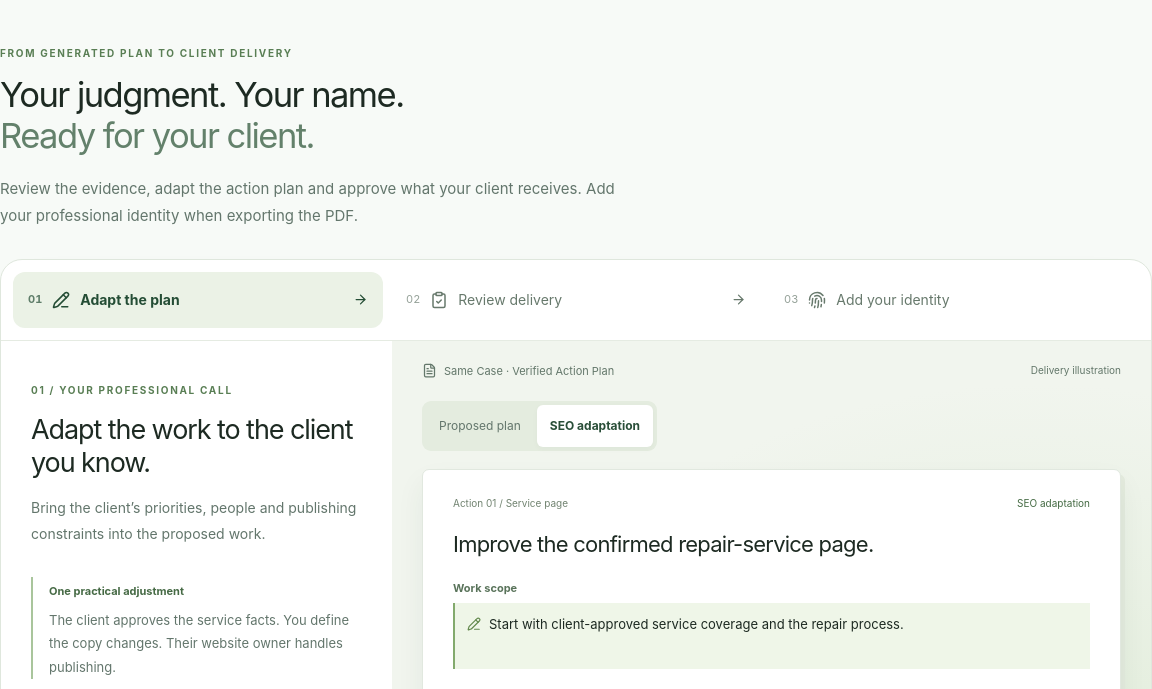
Scenario: client delivery showcase › shows a non-editable adaptation with before/after comparison and unchanged evidence
Check: the text "Start with client-approved" is shown, box 489,616 -> 904,632
Click the button "Proposed plan".
click(480, 426)  # box 426,405 -> 534,447
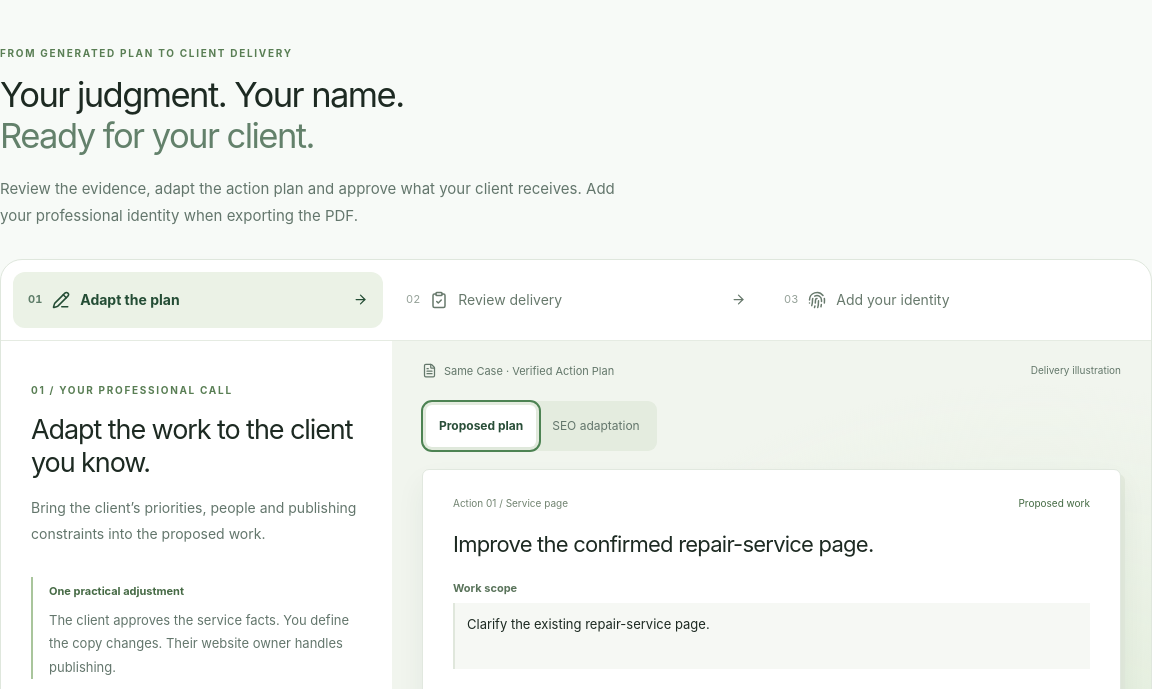
Check: the text "Clarify the existing repair-service page." is shown, box 453,603 -> 1090,669
Click the button "SEO adaptation".
click(596, 426)  # box 539,405 -> 653,447
(page scrolled)
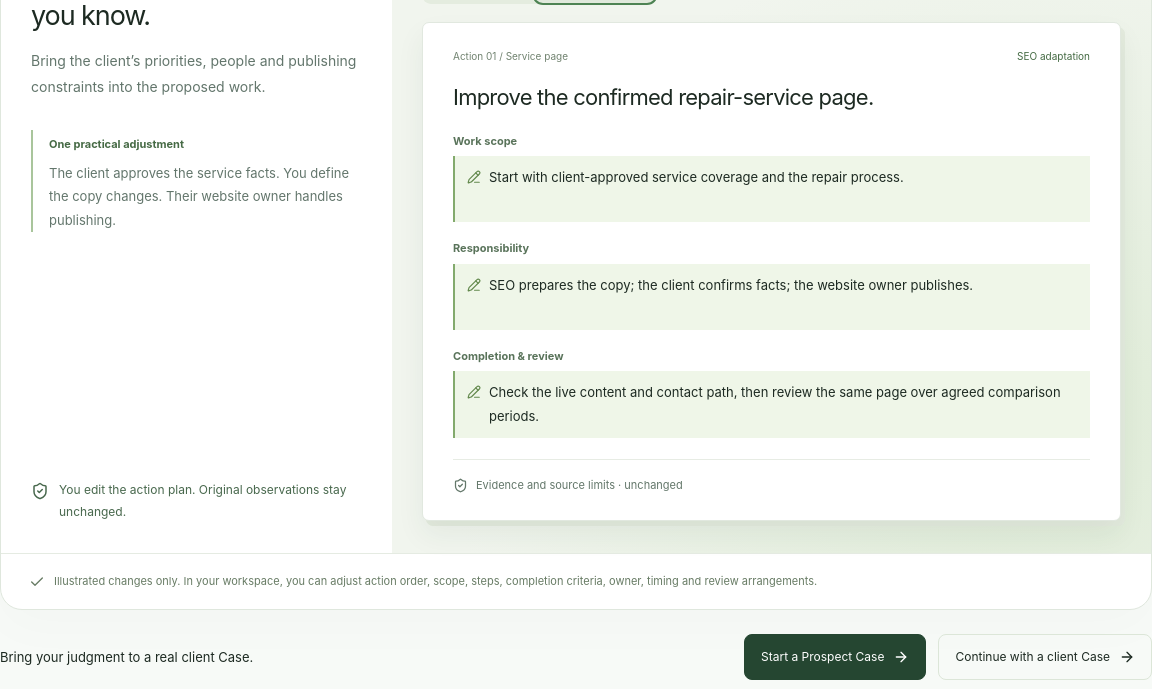
Check: the text "Evidence and source limits · unchanged" is shown, box 453,459 -> 1090,494
Check: the text "Start with client-approved" is shown, box 489,169 -> 904,185
